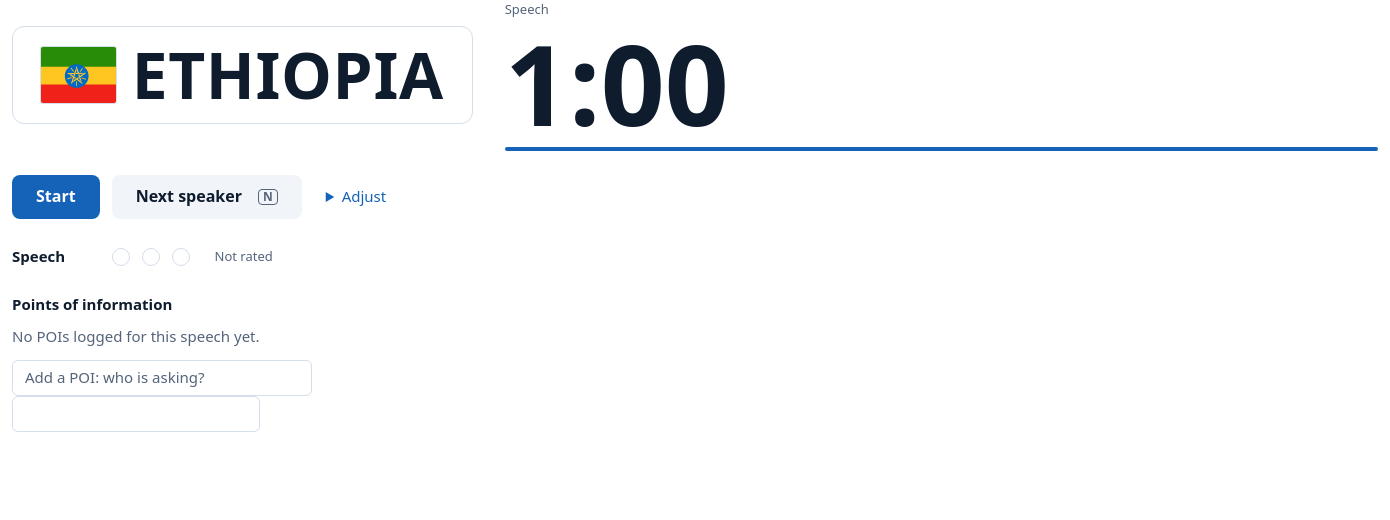
Test: SpeechPanel POIs › resets the queue when the next speaker takes the floor
The width and height of the screenshot is (1390, 520).
Click the dropdown named "POI from" at (162, 378), box [12,360,312,396]
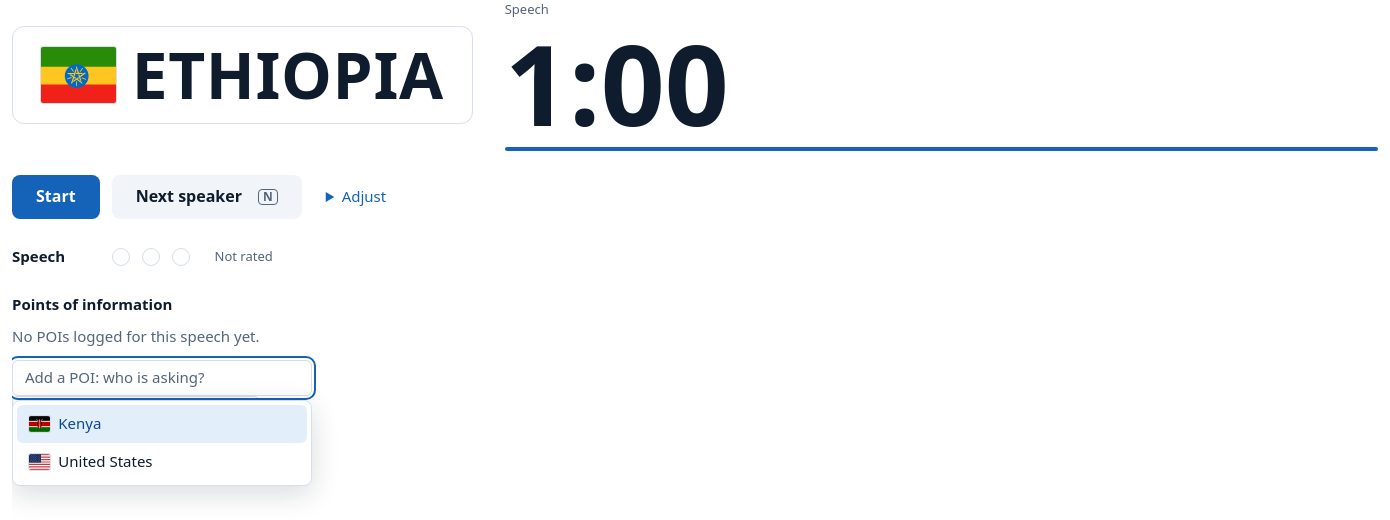
Click the option "United States" at (91, 461), box [29,451,153,471]
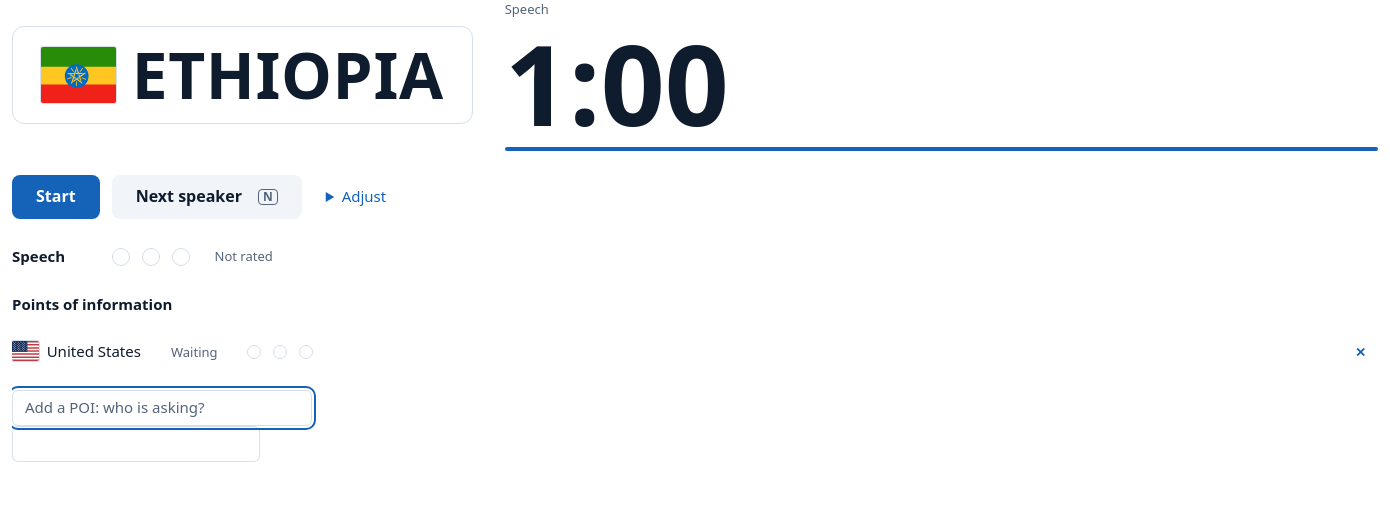
Click the button "Next speaker N" at (207, 197), box [112,175,302,219]
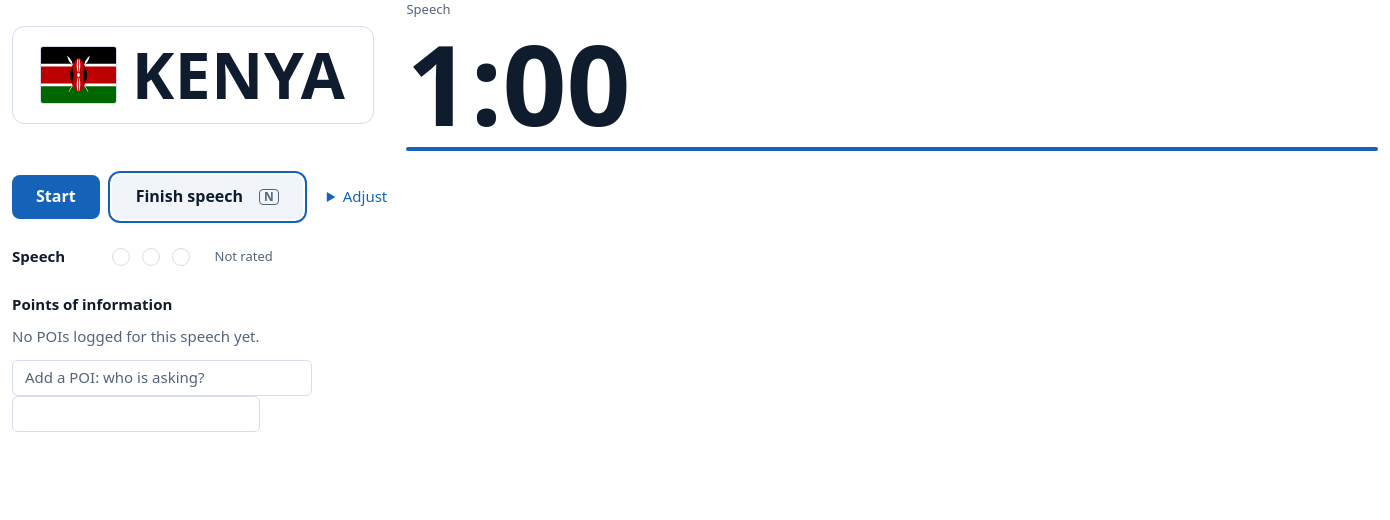
Now the text "Waiting" is gone
